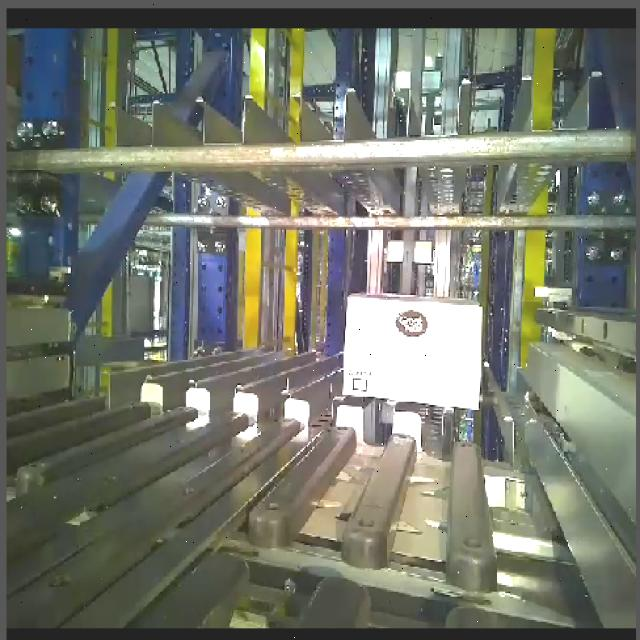box: (339, 295, 490, 409)
